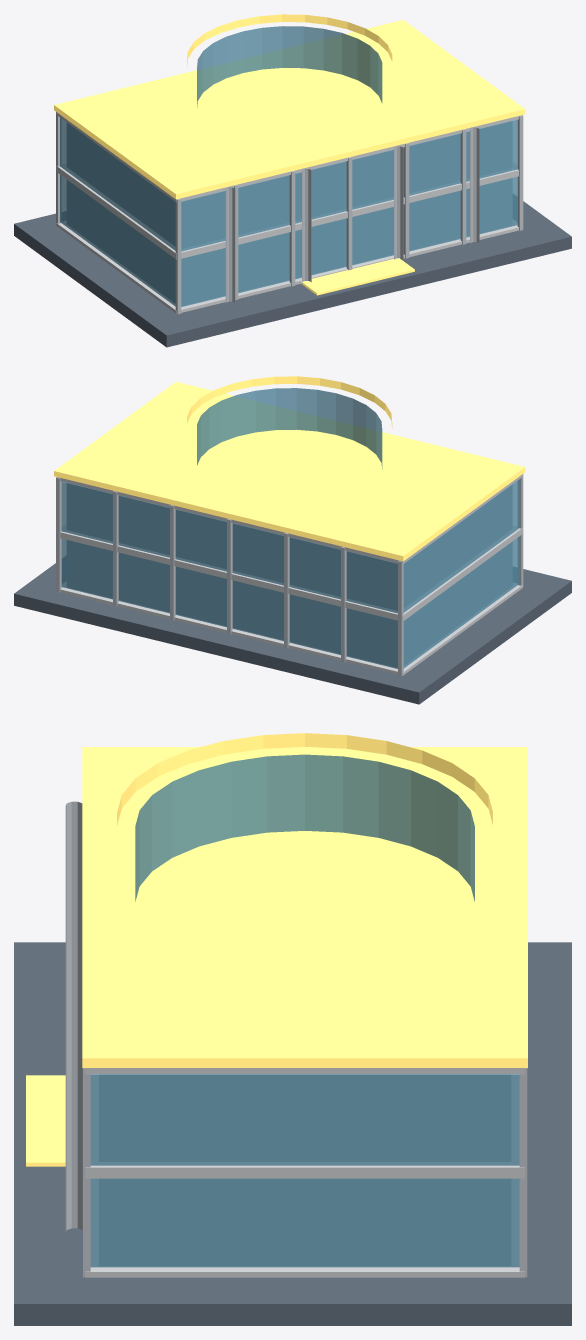
The model's file is vip_hospitality.glb.
The picture shows the model from 3 angles, top to bottom: view 1: azimuth 30°, elevation 25°; view 2: azimuth 150°, elevation 25°; view 3: azimuth 270°, elevation 25°; orthographic projection. The views are drawn at different scales.
Parts seen in each view (by area): view 1: vip_hospitality; view 2: vip_hospitality; view 3: vip_hospitality.
Boxes of the visible parts, left/top/right/bottom form: vip_hospitality: left=14, top=14, right=571, bottom=347; vip_hospitality: left=14, top=376, right=571, bottom=704; vip_hospitality: left=14, top=733, right=571, bottom=1325.
Bounding box in the file's own units: 2.82 × 1.21 × 1.84.
